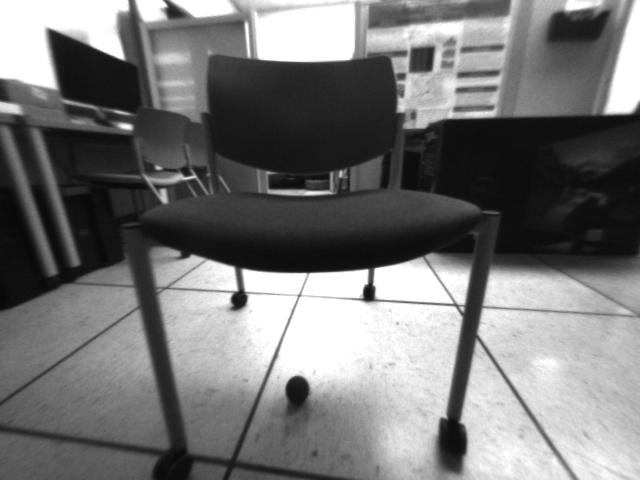dogtoy: (279, 368, 317, 412)
